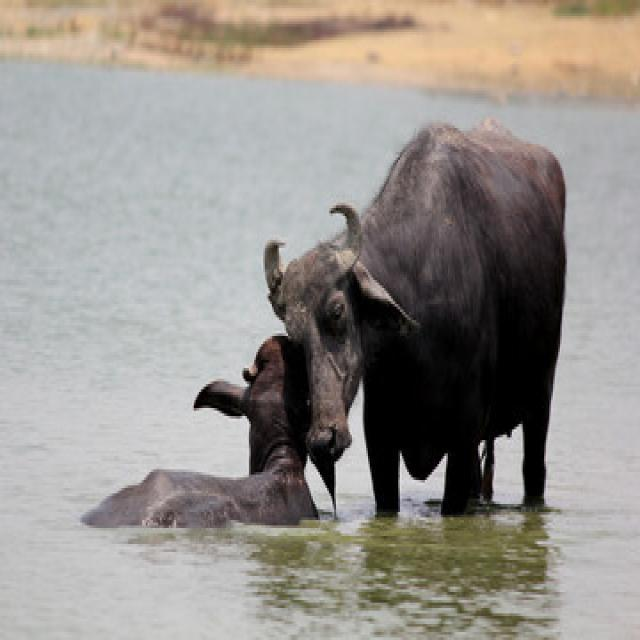Buffalo: (265, 117, 557, 509)
